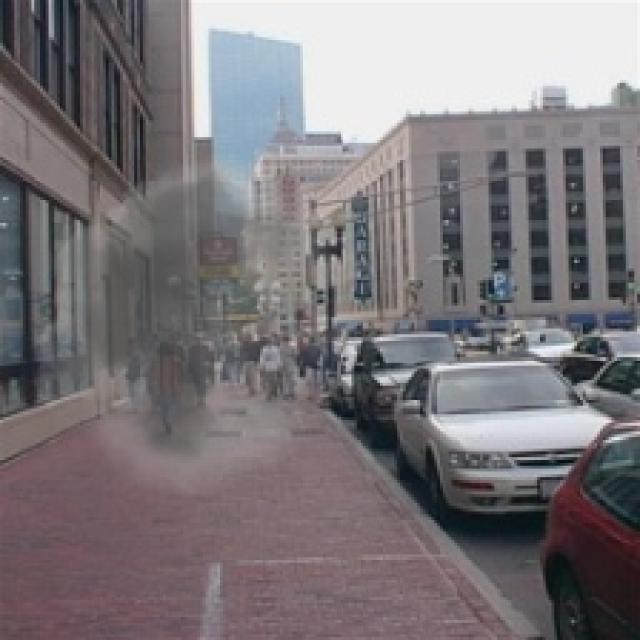Smoke: (17, 140, 377, 497)
